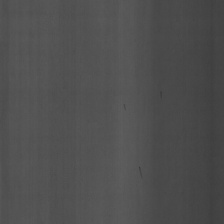oil_spot: (137, 162, 149, 183), (157, 88, 168, 101), (120, 100, 129, 113)
